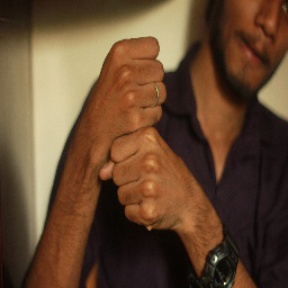G: (79, 27, 192, 234)
